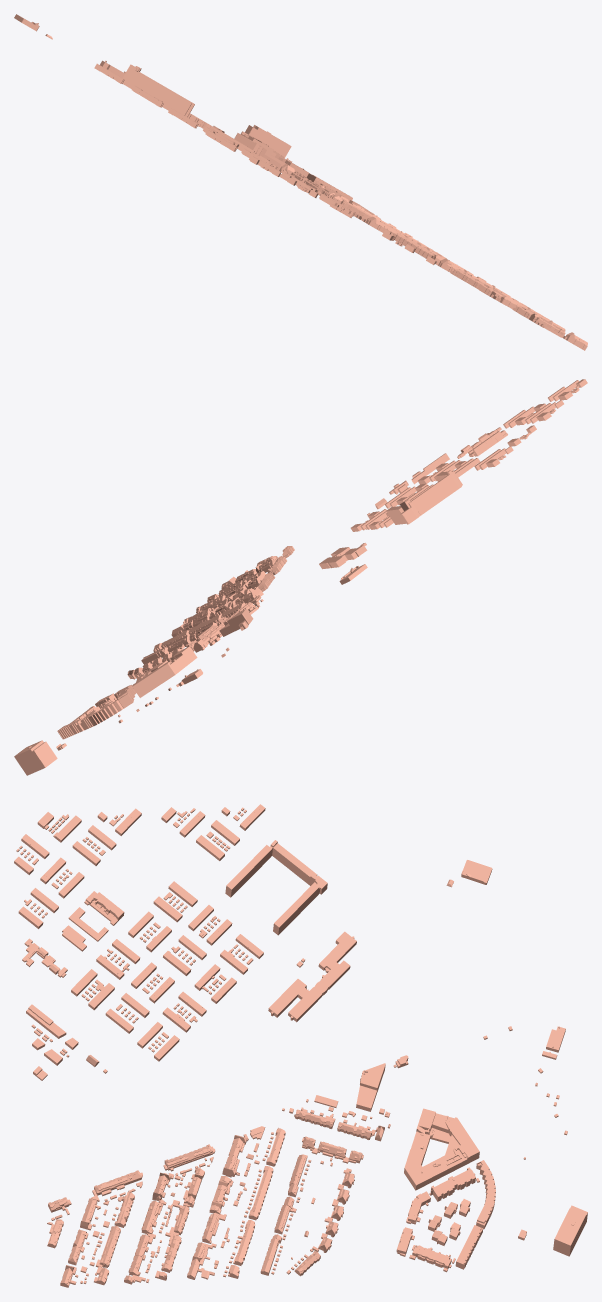
3 views of the same model, one above another, from view 1: azimuth 30°, elevation 25°; view 2: azimuth 150°, elevation 25°; view 3: azimuth 270°, elevation 25° (orthographic). The views are drawn at different scales.
Size of the model in its own units: 504 by 377 by 653.
